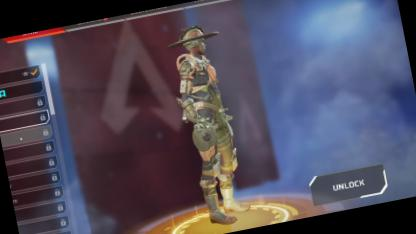Target: (160, 14, 252, 200)
